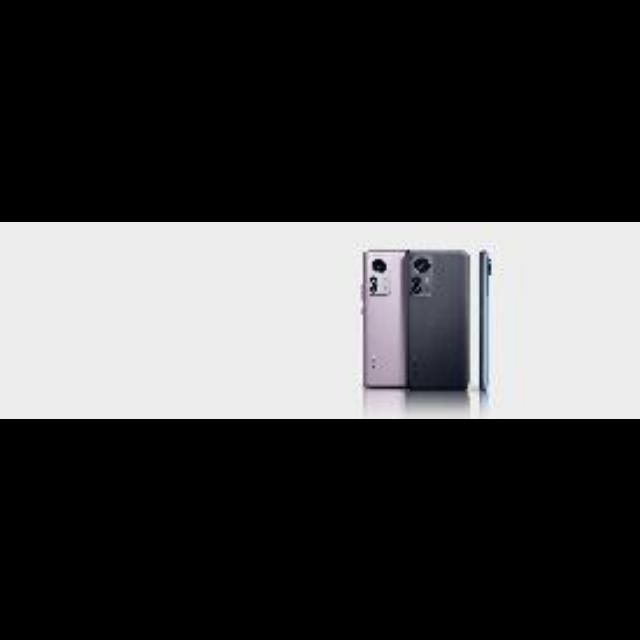Phone: (407, 250, 469, 392), (362, 252, 406, 391), (476, 247, 492, 395)
